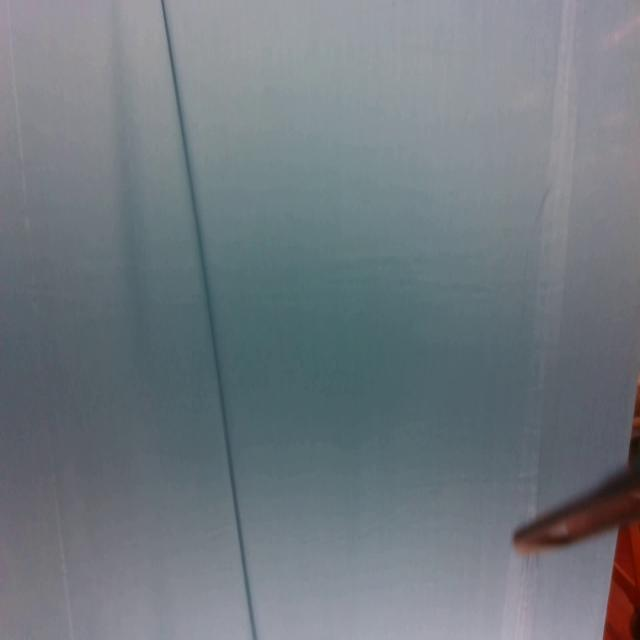crease: (160, 0, 261, 640), (6, 1, 77, 636), (514, 0, 577, 499), (511, 557, 534, 640)
